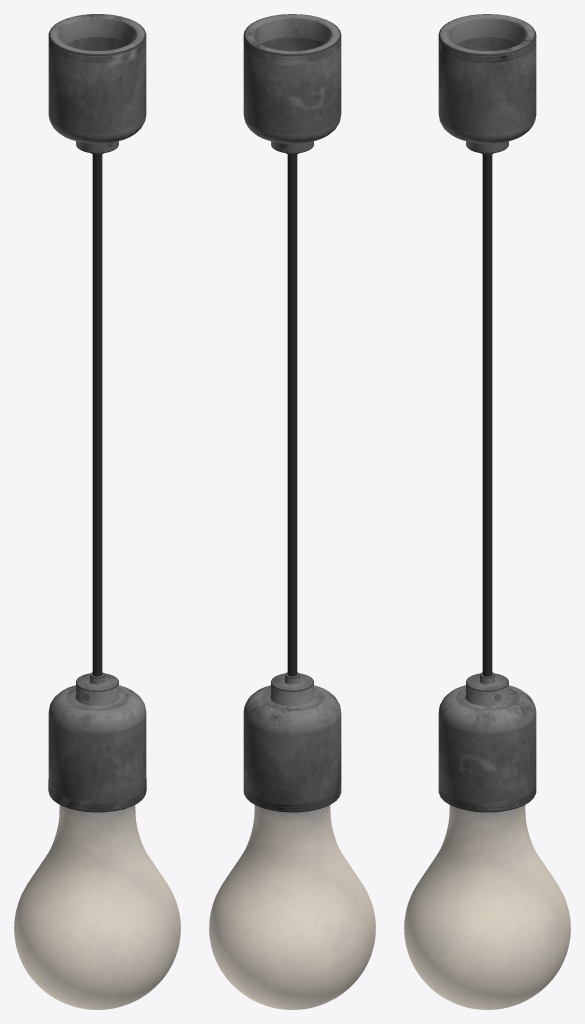
The model's file is hanging_bulb_basement.glb.
The picture shows the model from 3 angles, left to right: view 1: azimuth 30°, elevation 25°; view 2: azimuth 150°, elevation 25°; view 3: azimuth 270°, elevation 25°; orthographic projection.
Parts seen in each view (by area): view 1: Sphere.001; view 2: Sphere.001; view 3: Sphere.001.
Boxes of the visible parts, x1=… form: Sphere.001: x1=14, y1=14, x2=180, y2=1009; Sphere.001: x1=209, y1=14, x2=375, y2=1009; Sphere.001: x1=404, y1=14, x2=570, y2=1009.
Size of the model in its own units: 0.5951 by 3.8 by 0.5951.
3 materials, 3 textured.
